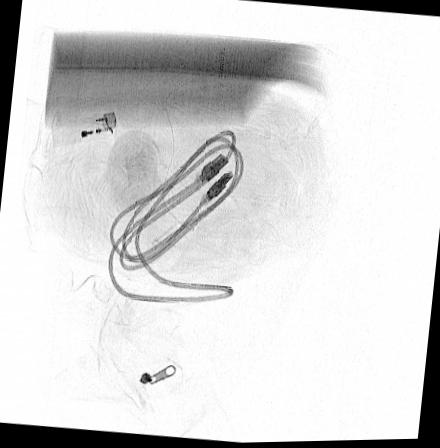Lighter: (51, 111, 117, 147)
